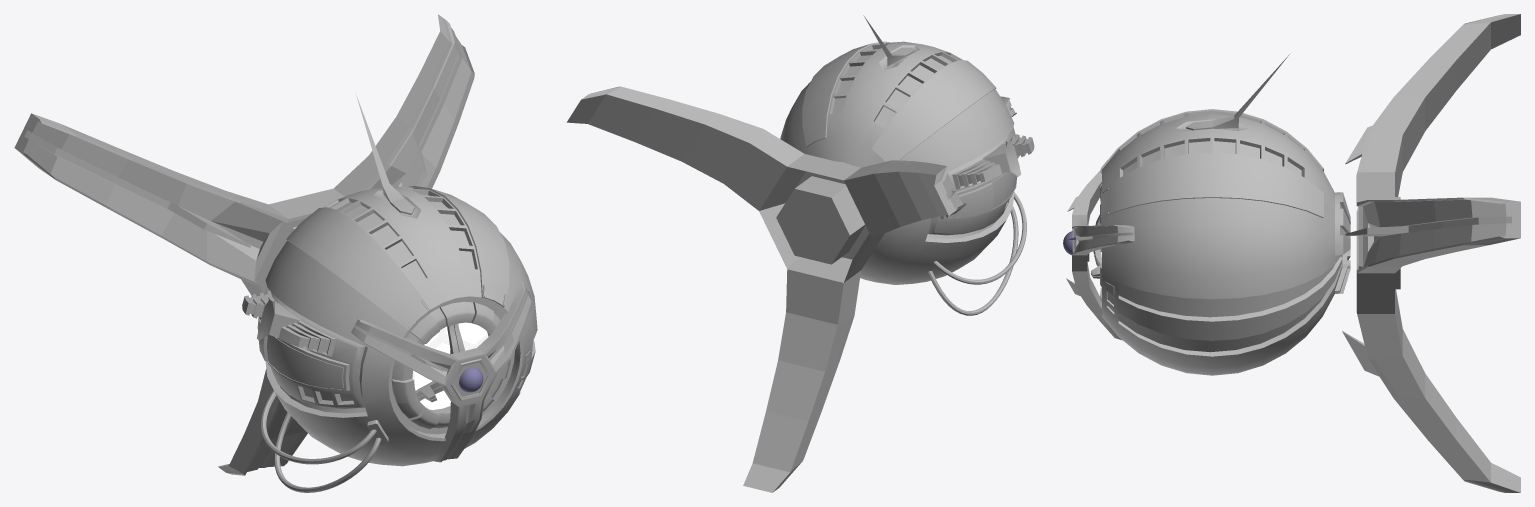
Rendered from probe.glb.
The picture shows the model from 3 angles, left to right: view 1: azimuth 30°, elevation 25°; view 2: azimuth 150°, elevation 25°; view 3: azimuth 270°, elevation 25°; orthographic projection. The views are drawn at different scales.
Visible parts, largest first — view 1: Body, Wings, BodyMetal, SecondFace, Grid; view 2: Wings, Body, BodyMetal; view 3: Body, Wings, BodyMetal.
Part boxes in pixels (x1,y1,x2,y2): Body: [257, 186, 537, 466]; Wings: [14, 14, 474, 475]; BodyMetal: [242, 95, 532, 492]; SecondFace: [391, 301, 510, 429]; Grid: [412, 322, 488, 409]; Wings: [566, 86, 966, 492]; Body: [780, 41, 1016, 284]; BodyMetal: [863, 15, 1034, 315]; Body: [1100, 109, 1350, 375]; Wings: [1342, 14, 1520, 492]; BodyMetal: [1066, 54, 1289, 340].
Bounding box in the file's own units: 3.63 × 3.63 × 3.45.
Materials: 4 (1 with a texture image).
